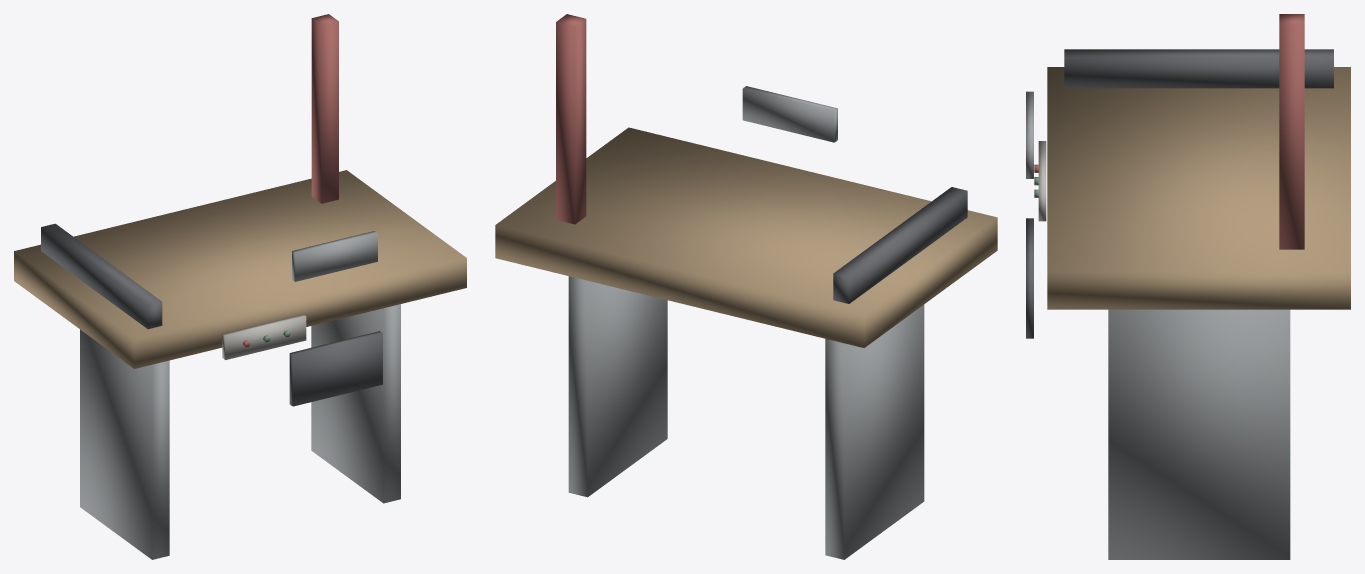
File: paper_cutter__weathered.glb
The picture shows the model from 3 angles, left to right: view 1: azimuth 30°, elevation 25°; view 2: azimuth 150°, elevation 25°; view 3: azimuth 270°, elevation 25°; orthographic projection. The views are drawn at different scales.
Visible parts, largest first — view 1: world; view 2: world; view 3: world.
Part boxes in pixels (x1,y1,x2,y2): world: (14,14,466,559); world: (495,14,997,559); world: (1026,14,1350,559).
Bounding box in the file's own units: 1.15 × 1.41 × 0.7709.
